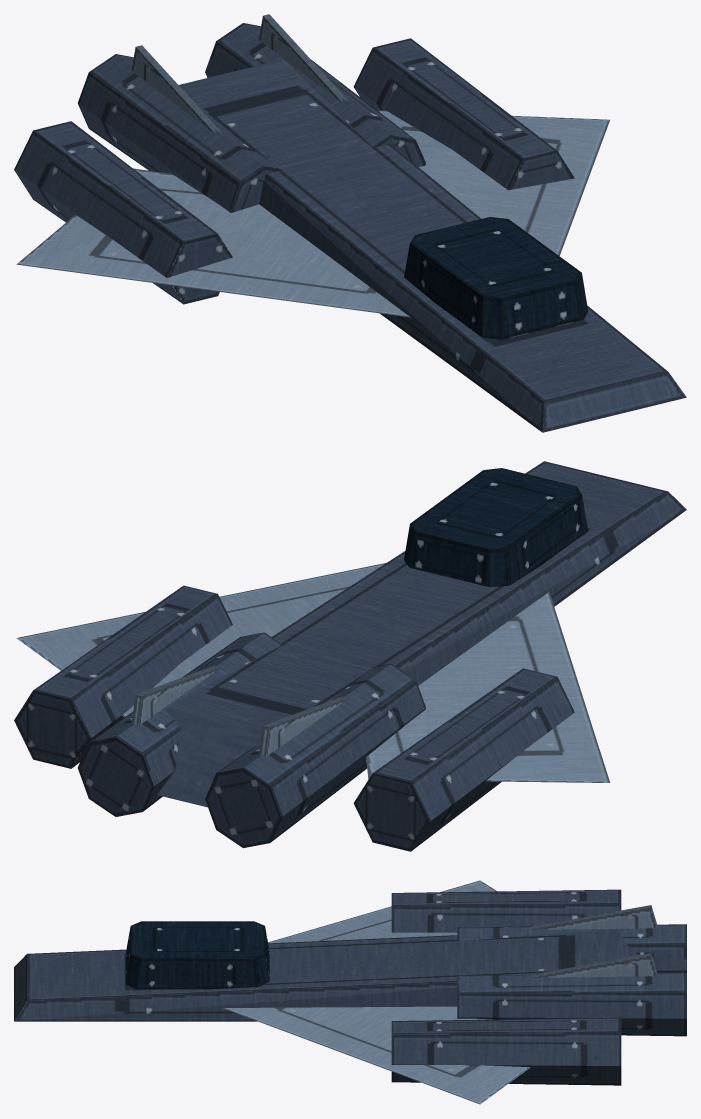
The model's file is unit-bomber.fbx.
3 views of the same model, one above another, from view 1: azimuth 30°, elevation 25°; view 2: azimuth 150°, elevation 25°; view 3: azimuth 270°, elevation 25° (orthographic). The views are drawn at different scales.
Parts seen in each view (by area): view 1: unit-bomber; view 2: unit-bomber; view 3: unit-bomber.
Boxes of the visible parts, <box> form: unit-bomber: <box>14,14,686,432</box>; unit-bomber: <box>14,461,686,851</box>; unit-bomber: <box>14,880,686,1104</box>.
Size of the model in its own units: 788 by 138 by 999.
Materials: 1 (1 with a texture image).
